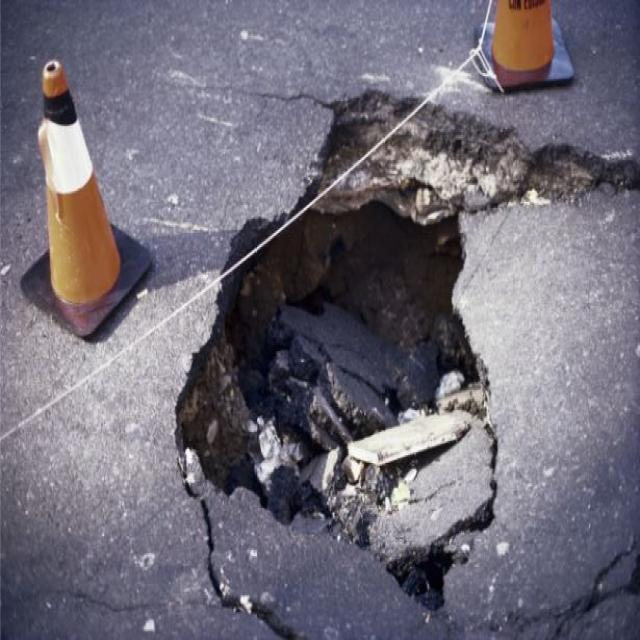Pothole: (168, 83, 603, 615)
